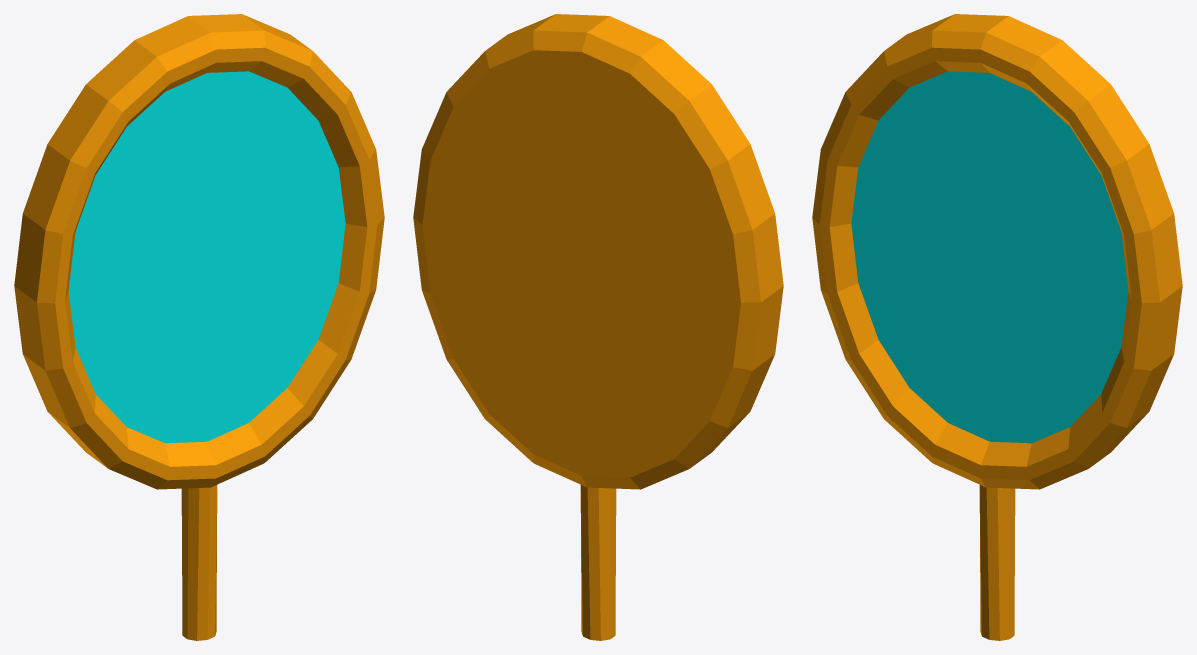
The model's file is MIRROR_GLASS.fbx.
3 renders of one model, left to right at view 1: azimuth 30°, elevation 25°; view 2: azimuth 150°, elevation 25°; view 3: azimuth 330°, elevation 25°, orthographic.
Parts seen in each view (by area): view 1: MIRROR_GLASS; view 2: MIRROR_GLASS; view 3: MIRROR_GLASS.
Part boxes in pixels (x1,y1,x2,y2): MIRROR_GLASS: [14, 14, 384, 640]; MIRROR_GLASS: [413, 14, 783, 640]; MIRROR_GLASS: [812, 14, 1182, 640].
Bounding box in the file's own units: 37.96 × 63.58 × 6.33.
